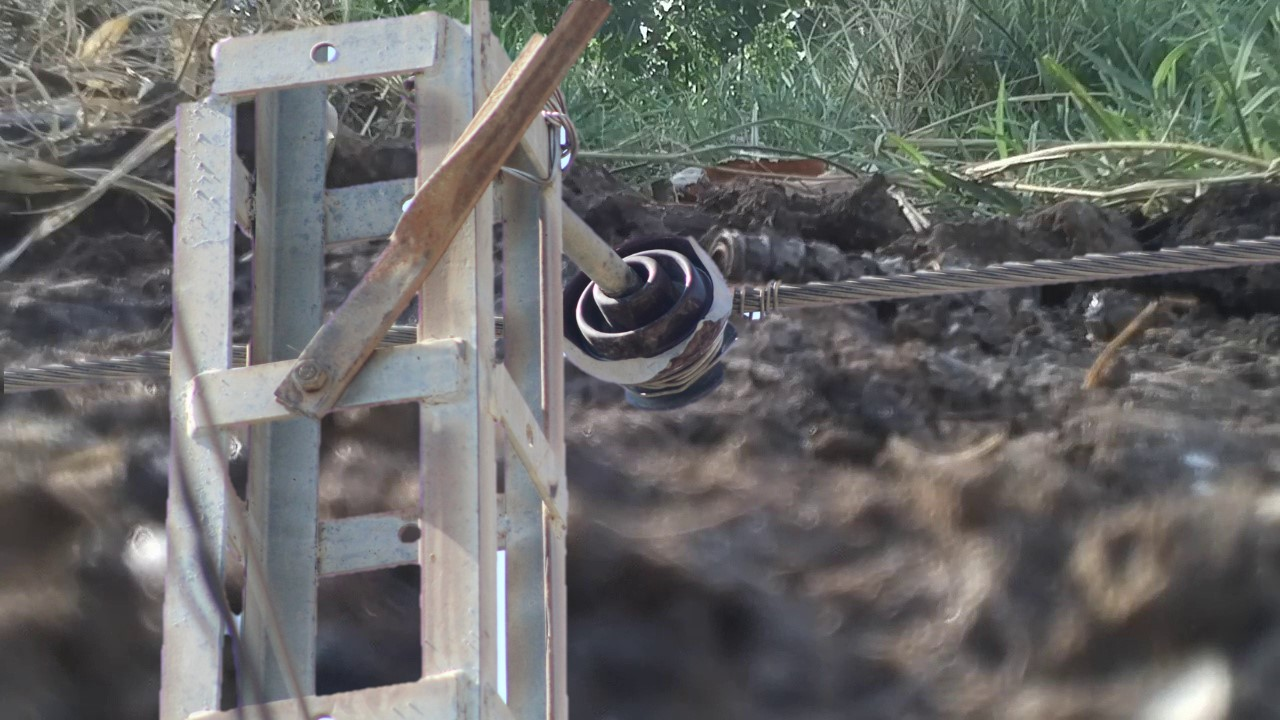defect_pin: (559, 228, 742, 412)
